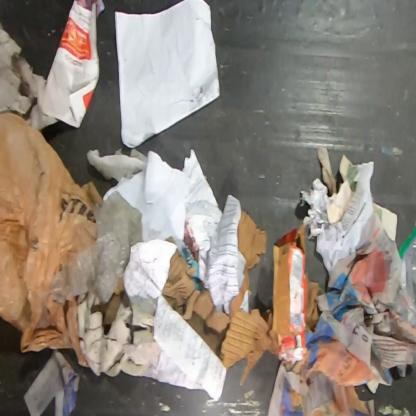cardboard: (162, 248, 230, 357), (219, 262, 278, 386), (272, 221, 308, 367), (238, 209, 268, 269), (305, 274, 323, 332), (162, 235, 177, 246)
soft_plastic: (0, 111, 104, 368), (49, 191, 147, 307), (398, 222, 416, 316)
